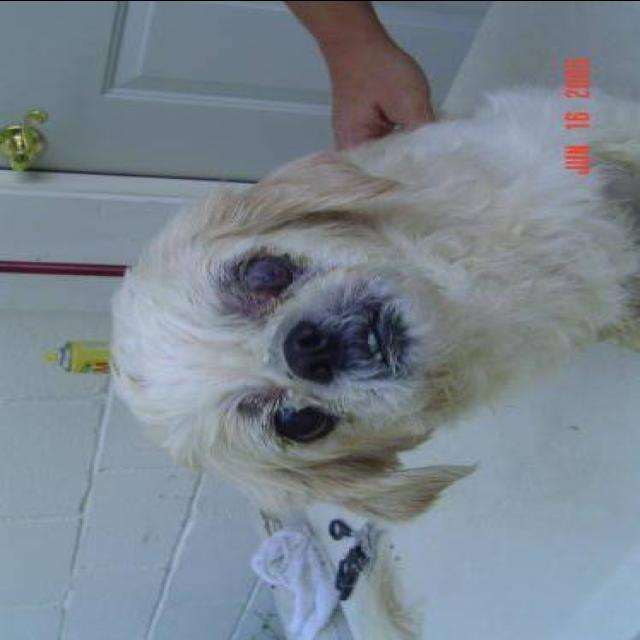dog: (90, 65, 640, 525)
